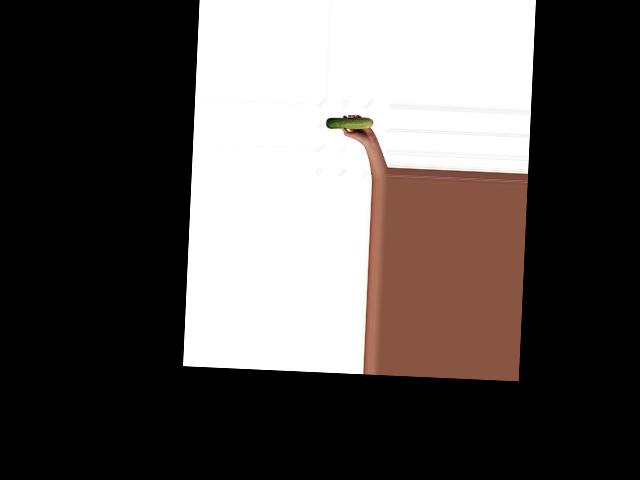cucumber: (325, 116, 374, 131)
